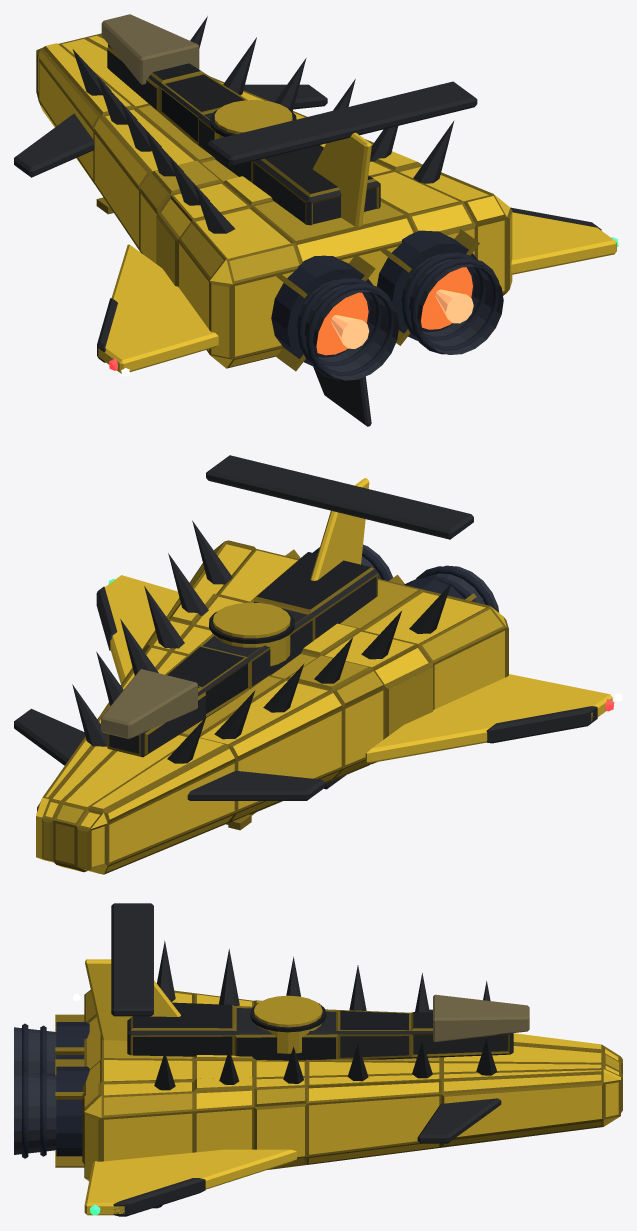
The model's file is hornet.glb.
3 renders of one model, top to bottom at view 1: azimuth 30°, elevation 25°; view 2: azimuth 150°, elevation 25°; view 3: azimuth 270°, elevation 25°, orthographic. The views are drawn at different scales.
Visible parts, largest first — view 1: hornet_mesh; view 2: hornet_mesh; view 3: hornet_mesh.
Boxes of the visible parts, left/top/right/bottom form: hornet_mesh: left=14, top=14, right=618, bottom=426; hornet_mesh: left=14, top=455, right=614, bottom=874; hornet_mesh: left=14, top=903, right=622, bottom=1216.
Size of the model in its own units: 7.66 by 4.15 by 9.08.
